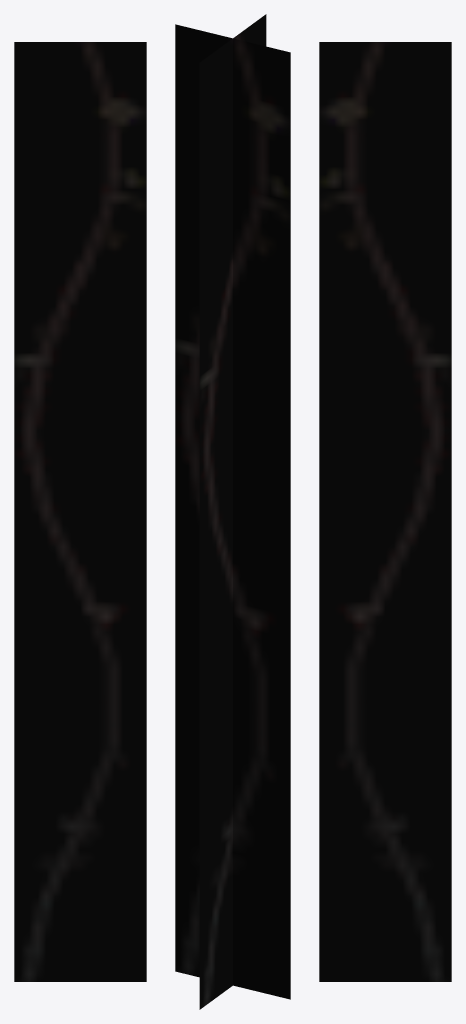
File: trunk_vine_b_card.glb
3 views of the same model, side by side, from view 1: azimuth 90°, elevation 25°; view 2: azimuth 150°, elevation 25°; view 3: azimuth 270°, elevation 25° (orthographic).
Parts seen in each view (by area): view 1: trunk_vine_b_card; view 2: trunk_vine_b_card; view 3: trunk_vine_b_card.
Boxes of the visible parts, left/top/right/bottom form: trunk_vine_b_card: left=14, top=42, right=146, bottom=981; trunk_vine_b_card: left=175, top=14, right=290, bottom=1009; trunk_vine_b_card: left=319, top=42, right=451, bottom=981.
Bounding box in the file's own units: 0.6639 × 5.2 × 0.6639.
Materials: 1 (1 with a texture image).
